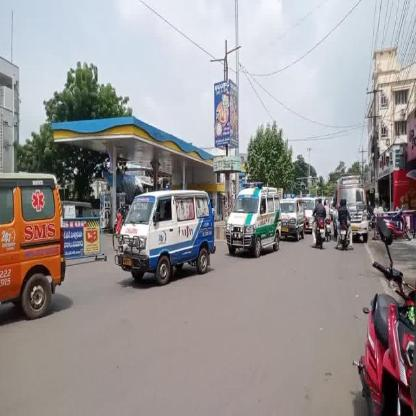priority: (0, 169, 68, 316), (115, 188, 218, 282), (226, 175, 284, 256), (286, 193, 306, 241)
